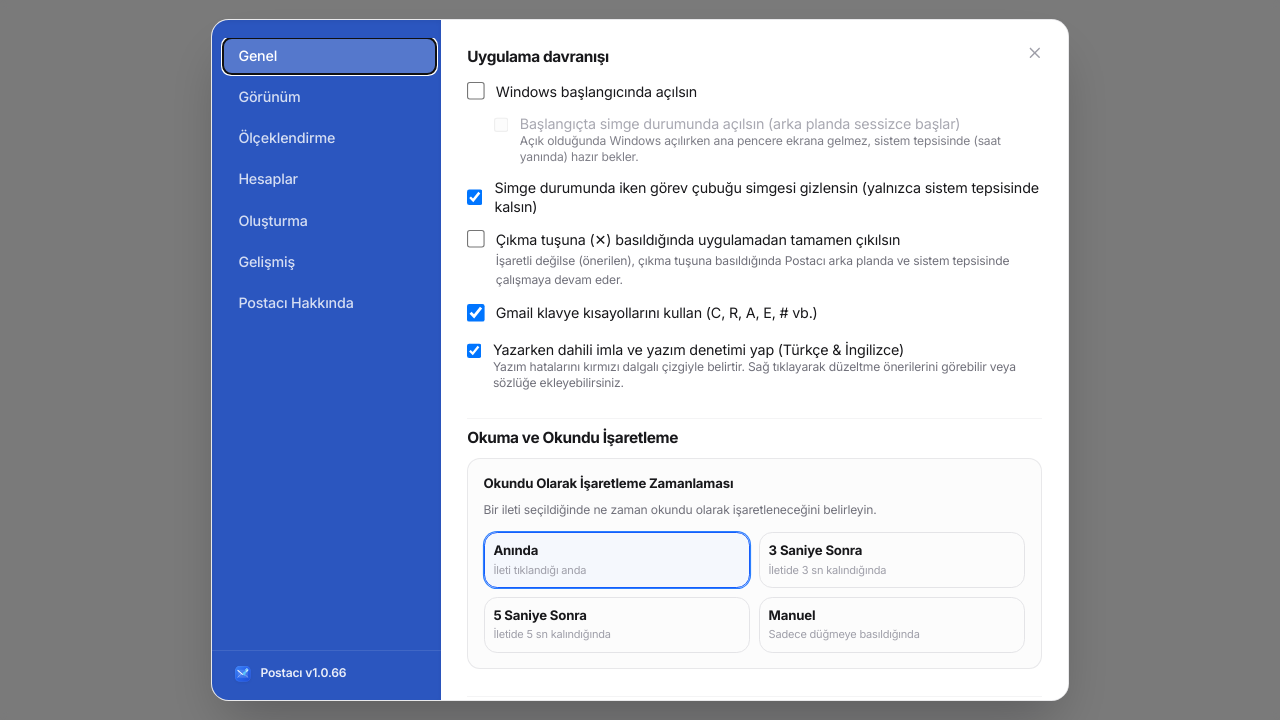
Test case: SettingsModal — sekme yüzeyi › gelişmiş sekmesi tüm kartları render eder
Click the button "Gelişmiş": click(330, 261) [223,243,436,279]
(page scrolled)
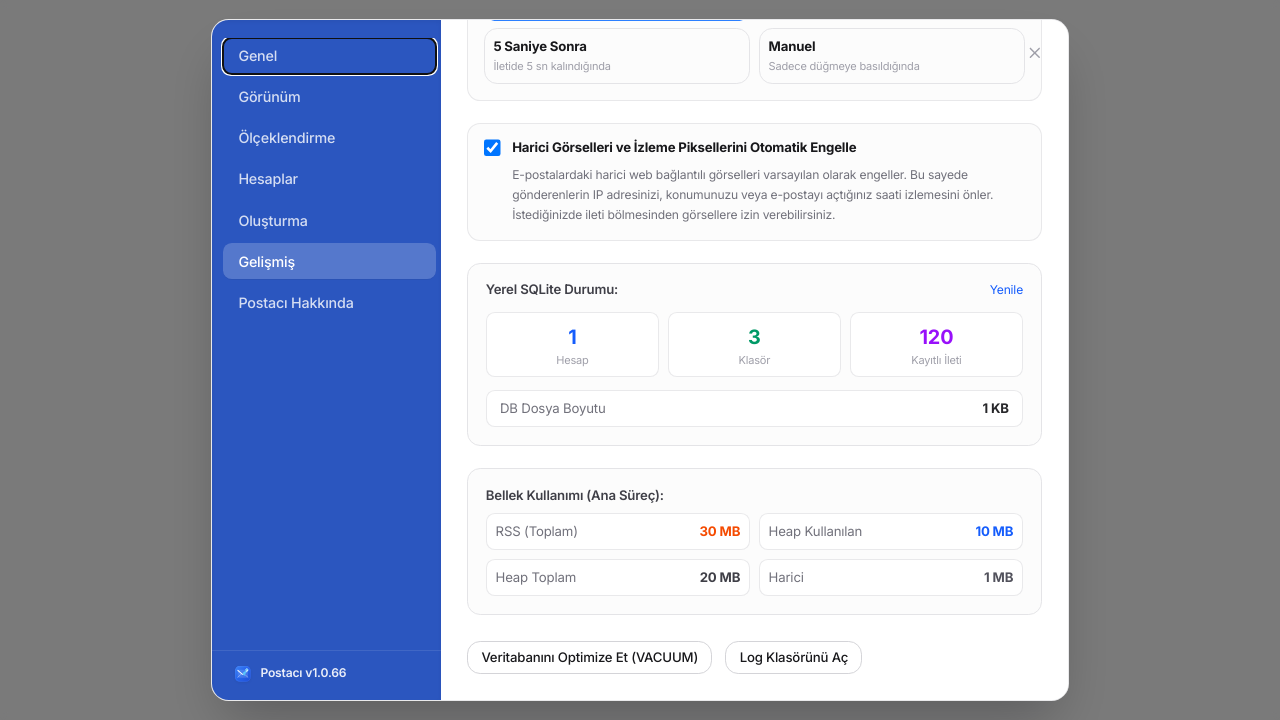
Check: the text "Harici Görselleri ve İzleme Piksellerini Otomatik Engelle" is shown, box [512,139,856,157]
Check: the text "Yerel SQLite Durumu:" is shown, box [486,281,618,299]
Check: the text "Bellek Kullanımı (Ana Süreç):" is shown, box [486,487,664,503]
